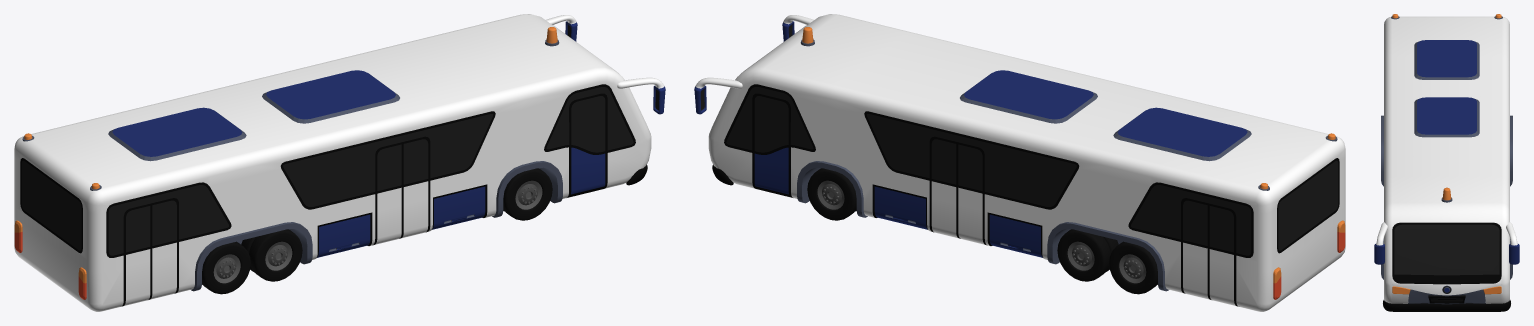
The model's file is 20_PassengerBus_AIRPORT_0.obj.
3 views of the same model, side by side, from view 1: azimuth 30°, elevation 25°; view 2: azimuth 150°, elevation 25°; view 3: azimuth 270°, elevation 25° (orthographic). The views are drawn at different scales.
Visible parts, largest first — view 1: 20.PassengerBus_AIRPORT_0; view 2: 20.PassengerBus_AIRPORT_0; view 3: 20.PassengerBus_AIRPORT_0.
Boxes of the visible parts, x1,y1,x2,y2 form: 20.PassengerBus_AIRPORT_0: (14, 14, 665, 311); 20.PassengerBus_AIRPORT_0: (694, 14, 1345, 311); 20.PassengerBus_AIRPORT_0: (1374, 14, 1519, 311).
Size of the model in its own units: 17.56 by 4.29 by 5.06.
Materials: 1 (1 with a texture image).
